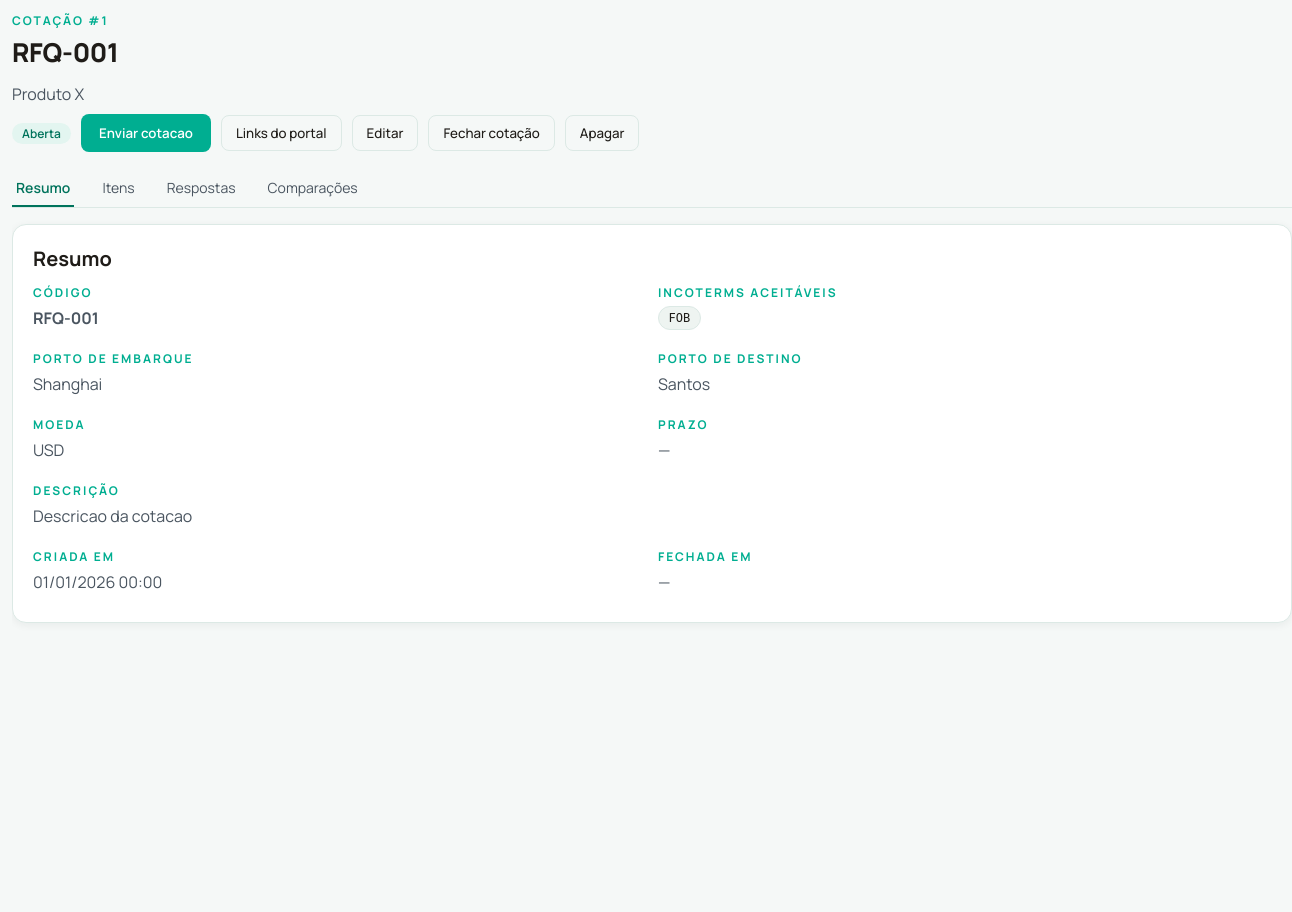
CotacaoDetalhe › aviso de reagrupamento de POs (aba Itens) › 3b. cotação sem envio e sem respostas não mostra o aviso
This screenshot has width=1292, height=912.
Expected: the heading "RFQ-001" is shown, x1=12 y1=34 x2=119 y2=70
Click the tab "Itens" at (119,188), box x1=98 y1=170 x2=139 y2=207
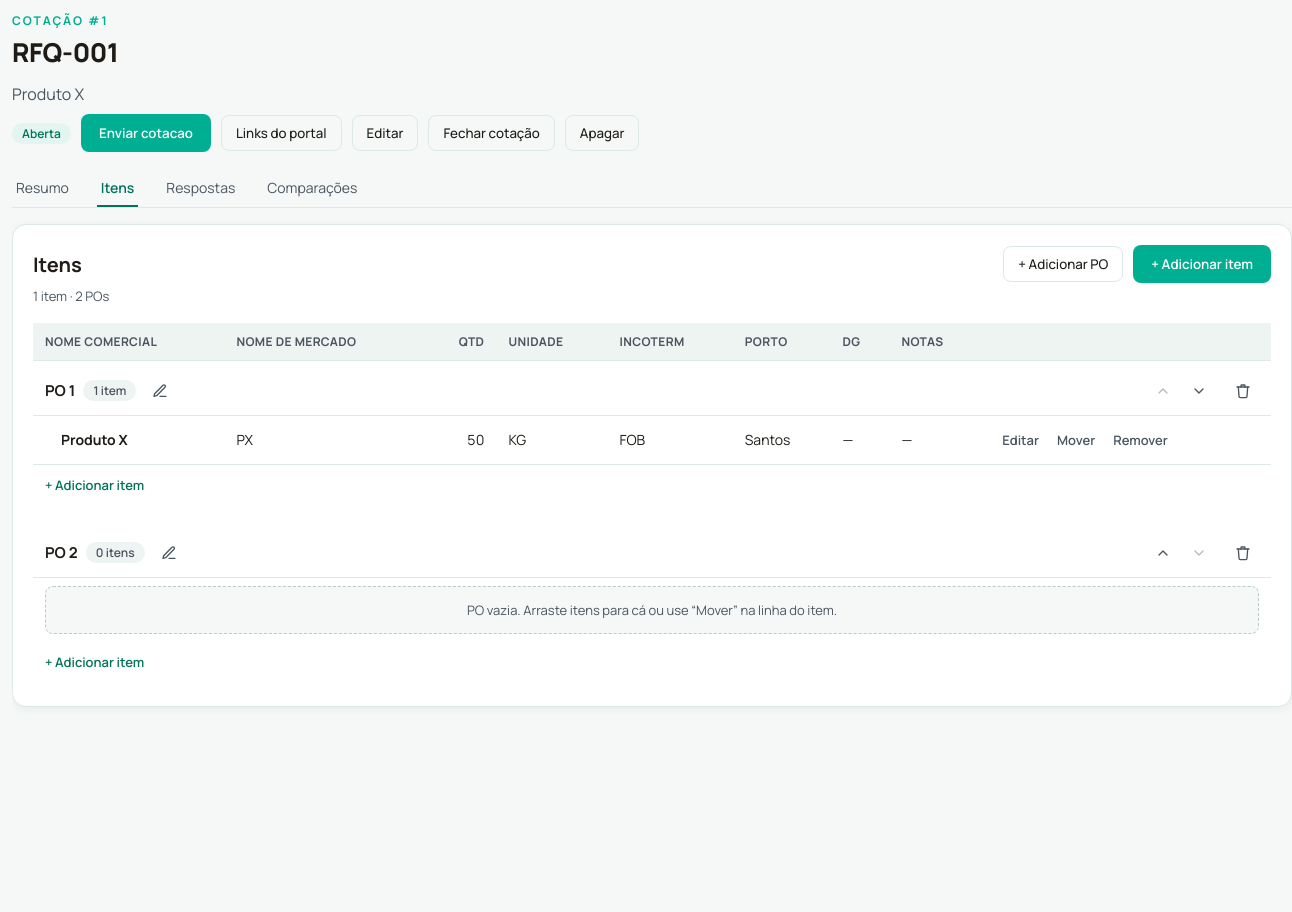
Result: the heading "PO 1" is shown at x1=45 y1=380 x2=75 y2=401
